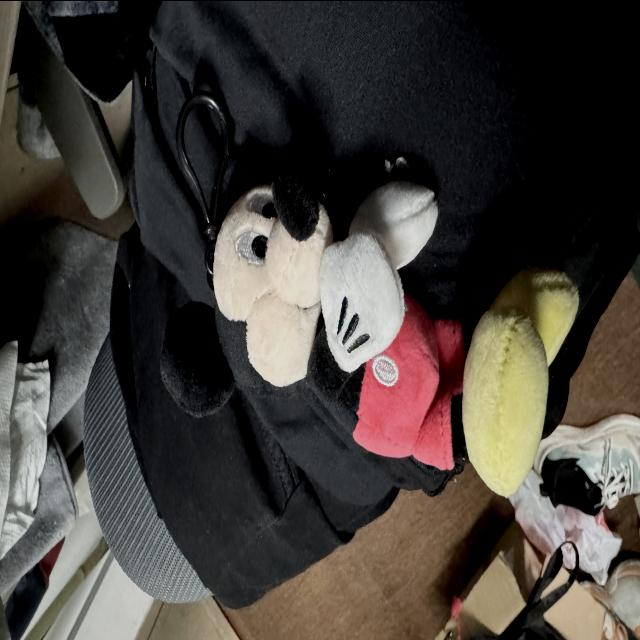mickey: (161, 169, 578, 494)
